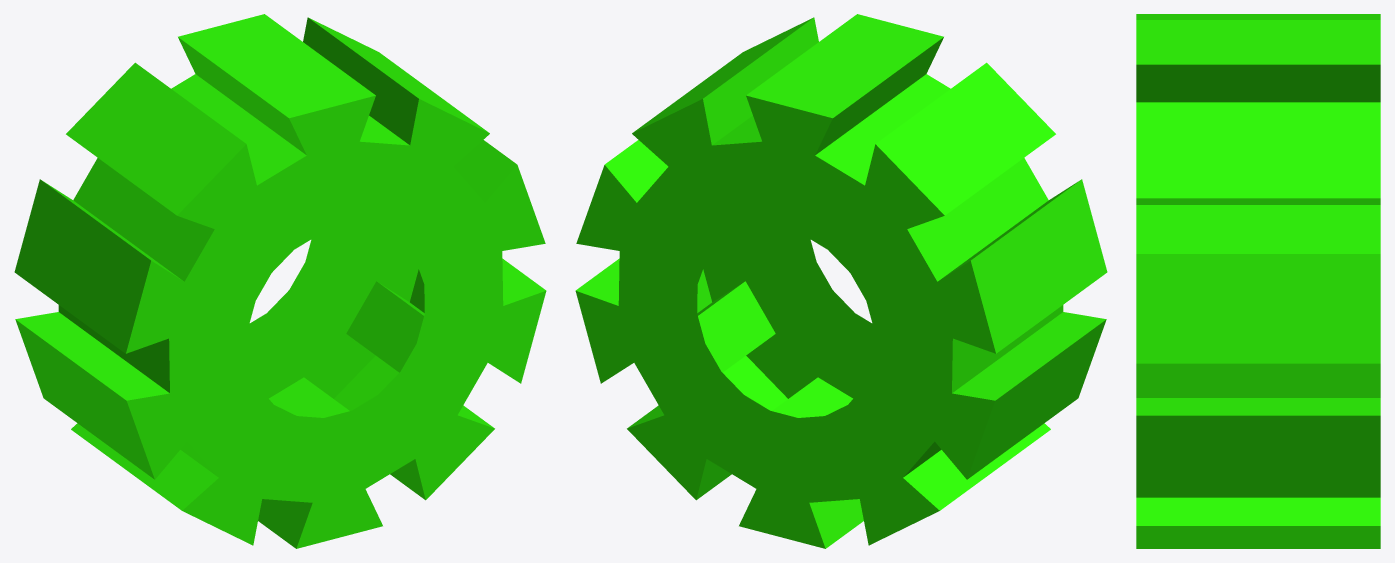
File: roue3.fbx
3 renders of one model, left to right at view 1: azimuth 30°, elevation 25°; view 2: azimuth 150°, elevation 25°; view 3: azimuth 270°, elevation 25°, orthographic. The views are drawn at different scales.
Visible parts, largest first — view 1: Object053; view 2: Object053; view 3: Object053.
Part boxes in pixels (left/top/right/bottom): Object053: left=14, top=14, right=546, bottom=548; Object053: left=575, top=14, right=1107, bottom=548; Object053: left=1136, top=14, right=1380, bottom=548.
Bounding box in the file's own units: 0.0898 × 0.0886 × 0.0412.
